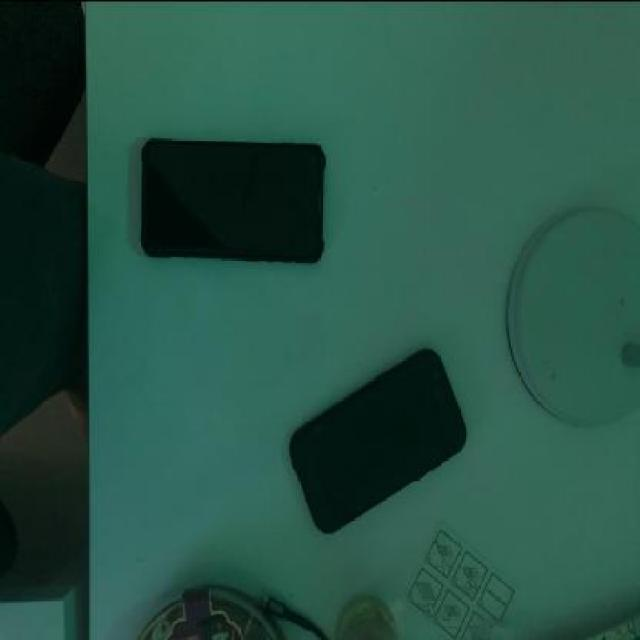phone: (290, 345, 468, 536), (139, 129, 327, 263)
